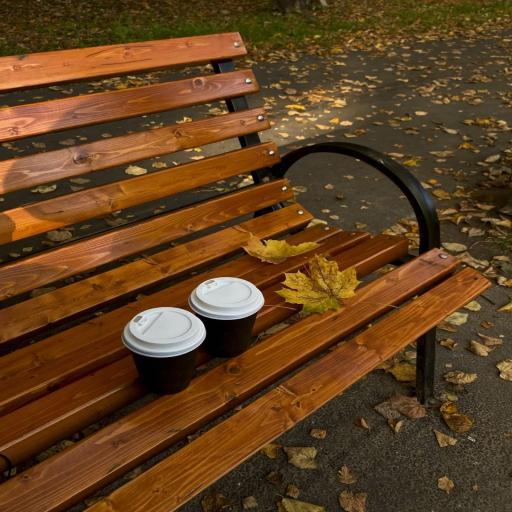trash_bin: (0, 33, 488, 511)
